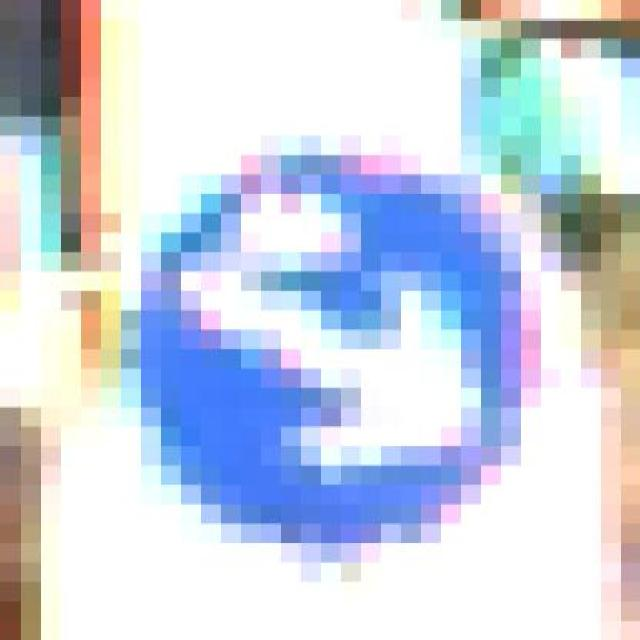Keep-Right: (100, 135, 560, 563)
